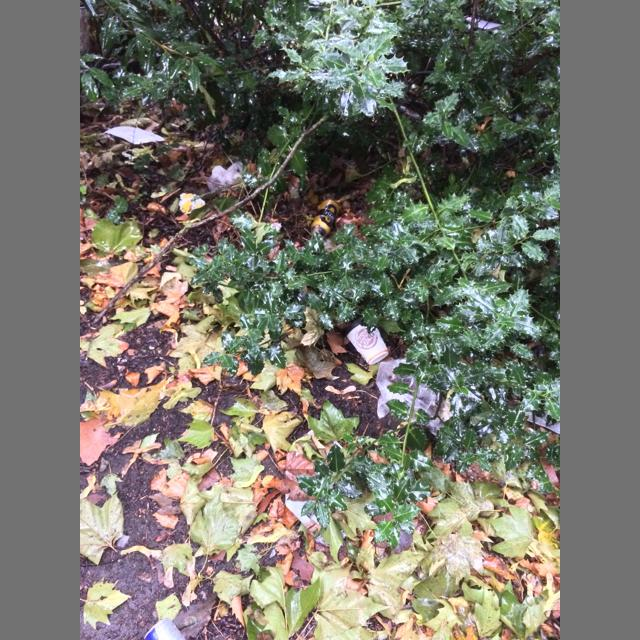litter: (375, 358, 452, 436), (343, 319, 389, 365), (104, 126, 166, 145), (311, 199, 341, 238), (207, 162, 243, 192), (143, 617, 186, 640), (179, 193, 205, 213), (343, 319, 361, 338)
